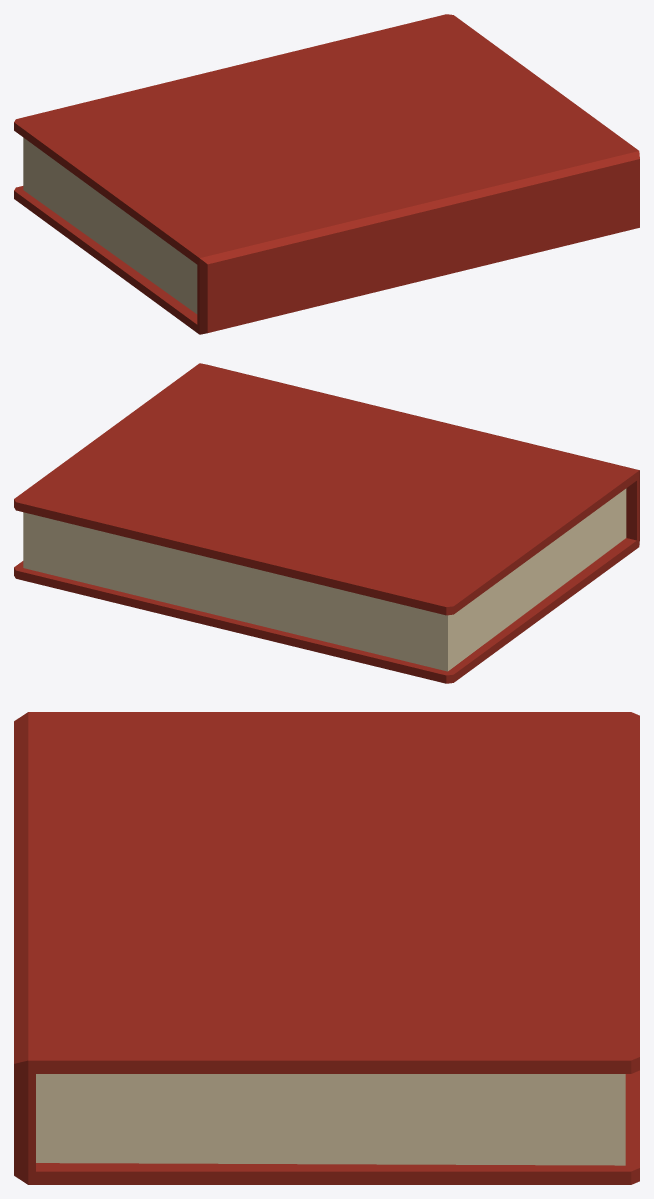
Rendered from Book.fbx.
3 renders of one model, top to bottom at view 1: azimuth 30°, elevation 25°; view 2: azimuth 150°, elevation 25°; view 3: azimuth 270°, elevation 25°, orthographic. The views are drawn at different scales.
Parts seen in each view (by area): view 1: Cube.011; view 2: Cube.011; view 3: Cube.011.
Part boxes in pixels (<box>): Cube.011: <box>14,14,639,334</box>; Cube.011: <box>14,363,639,683</box>; Cube.011: <box>14,712,639,1184</box>.
Size of the model in its own units: 576 by 95.96 by 437.
